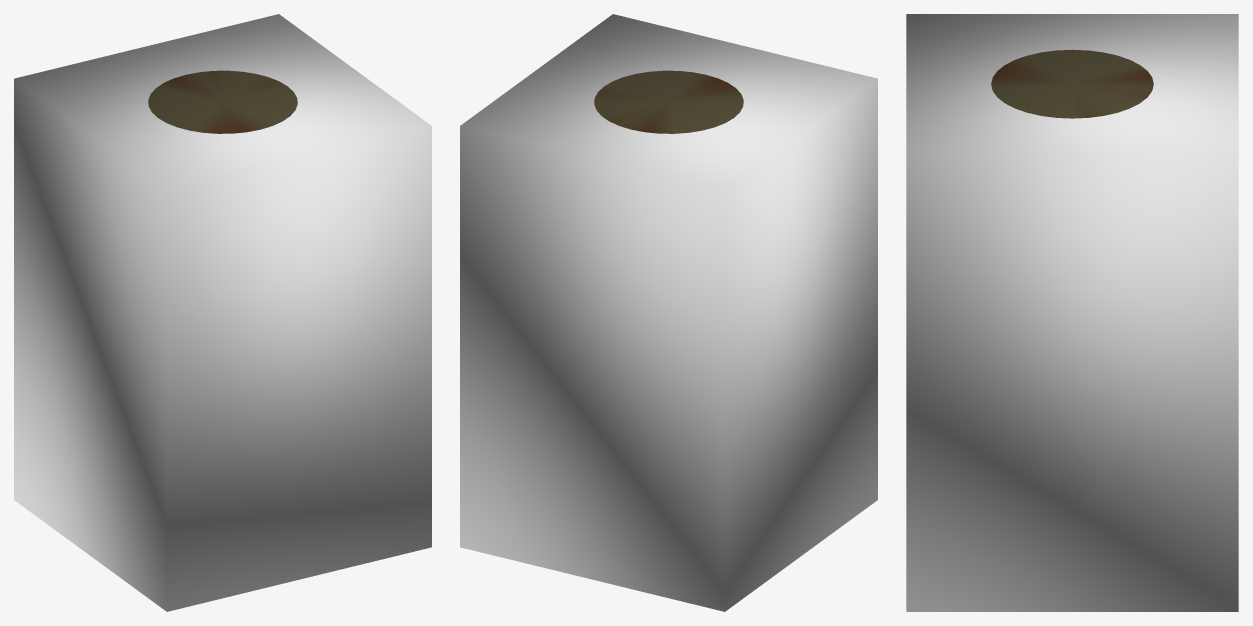
Rendered from tarro_pepinillos.glb.
3 views of the same model, side by side, from view 1: azimuth 30°, elevation 25°; view 2: azimuth 150°, elevation 25°; view 3: azimuth 270°, elevation 25° (orthographic). The views are drawn at different scales.
Visible parts, largest first — view 1: tarro-colcaja, tapa; view 2: tarro-colcaja, tapa; view 3: tarro-colcaja, tapa.
Boxes of the visible parts, x1=… form: tarro-colcaja: x1=14, y1=14, x2=431, y2=611; tapa: x1=148, y1=70, x2=297, y2=133; tarro-colcaja: x1=460, y1=14, x2=877, y2=611; tapa: x1=594, y1=70, x2=743, y2=133; tarro-colcaja: x1=906, y1=14, x2=1238, y2=611; tapa: x1=991, y1=49, x2=1153, y2=118.
Size of the model in its own units: 0.1 by 0.1522 by 0.1.
